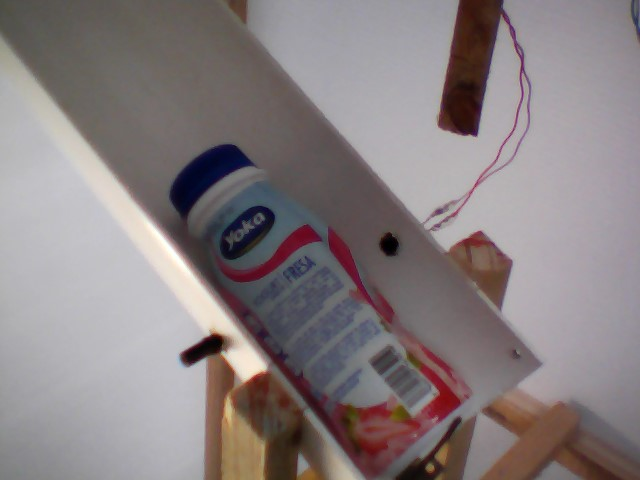plastico: (164, 142, 482, 480)
